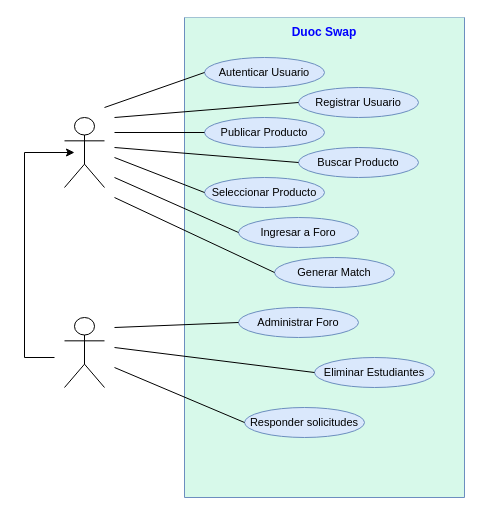
Image size: 482x515. Some labels were removed from this diagram. Here are the shapes that lost their labels. From the top down, the box of each, then its label:
(64, 116, 104, 188): Usuario Duoc
(64, 316, 104, 388): Usuario Admin
